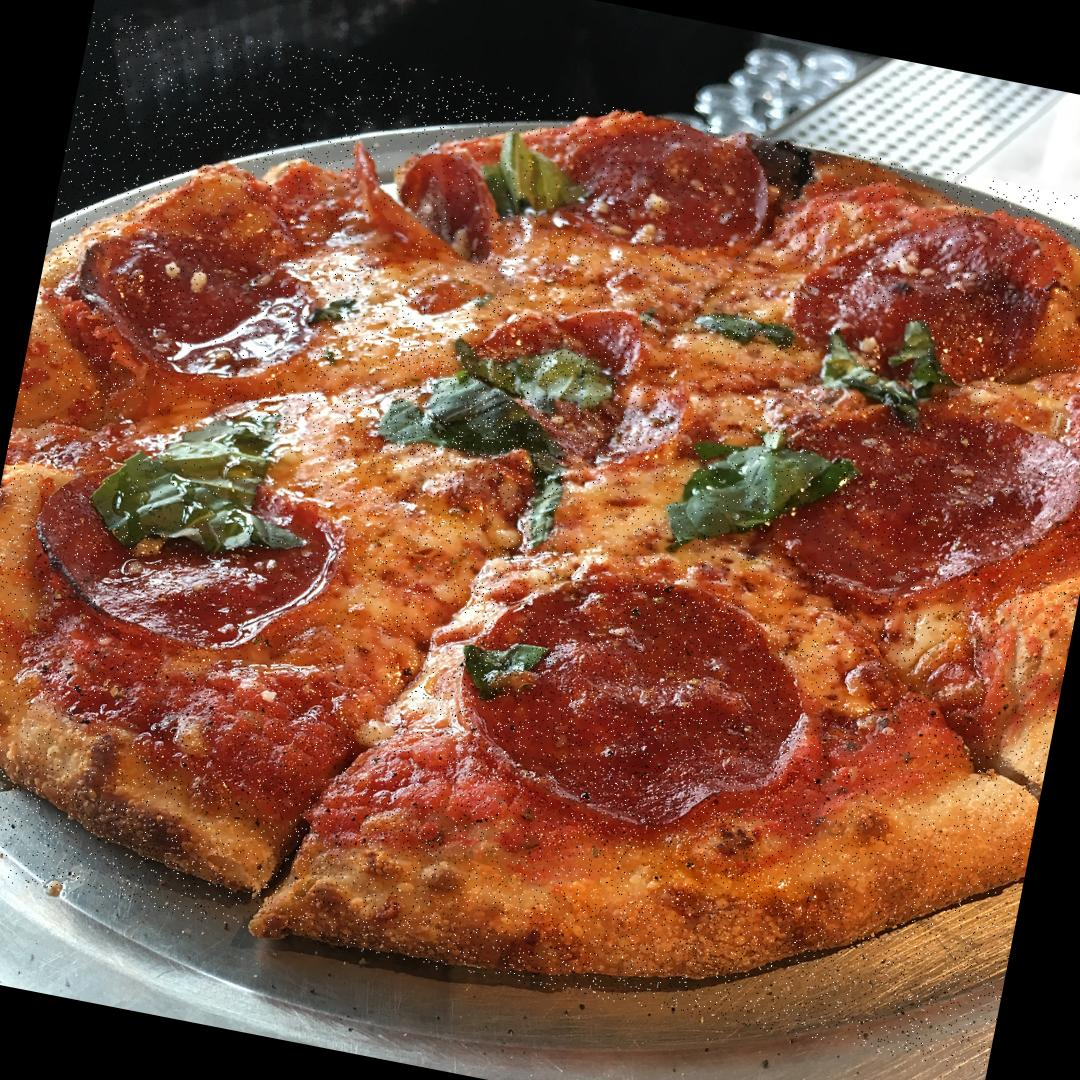Basil: (94, 390, 320, 564), (383, 332, 599, 487), (666, 418, 852, 560), (809, 308, 946, 420), (474, 128, 584, 228), (684, 305, 796, 362)
Pepperoni: (444, 555, 826, 845), (742, 374, 1080, 642), (14, 440, 346, 684), (785, 184, 1076, 404), (62, 219, 328, 396), (454, 280, 685, 471), (551, 112, 783, 276), (340, 127, 506, 273)
Pizza: (0, 6, 1080, 1075)
